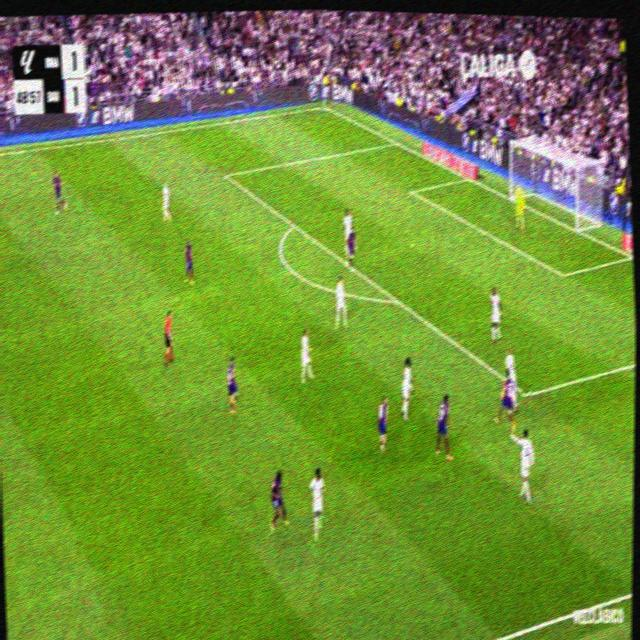bigarea_bottom_inner: (521, 384, 532, 404)
bigarea_top_inner: (222, 168, 230, 181)
bottom_arc_area_intersection: (391, 290, 401, 310)
corner: (319, 102, 328, 111)
smallarea_top_inner: (409, 185, 415, 197)
top_arc_area_intersection: (289, 217, 297, 232)
